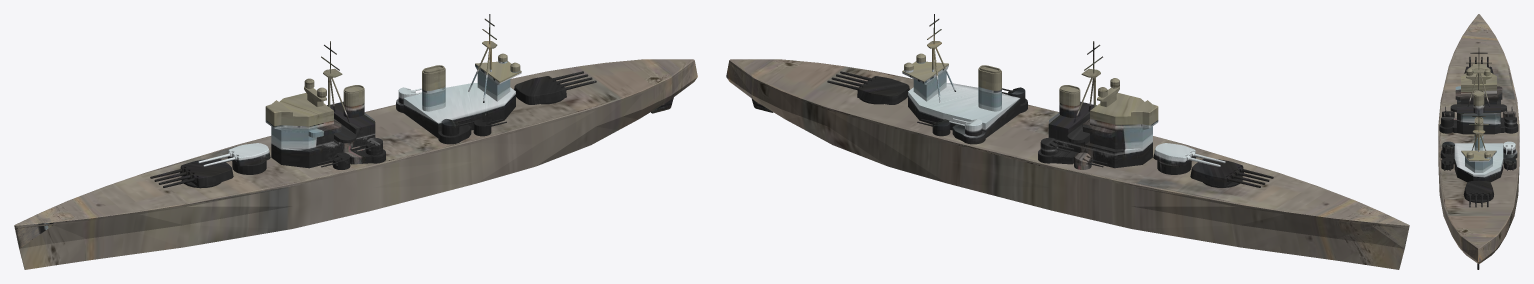
Rendered from ship1.obj.
The picture shows the model from 3 angles, left to right: view 1: azimuth 30°, elevation 25°; view 2: azimuth 150°, elevation 25°; view 3: azimuth 270°, elevation 25°; orthographic projection. The views are drawn at different scales.
Parts seen in each view (by area): view 1: ship1; view 2: ship1; view 3: ship1.
Part boxes in pixels (x1,y1,x2,y2): ship1: (14, 14, 697, 269); ship1: (726, 14, 1409, 269); ship1: (1438, 14, 1519, 269).
Bounding box in the file's own units: 337 × 73.26 × 49.33.
